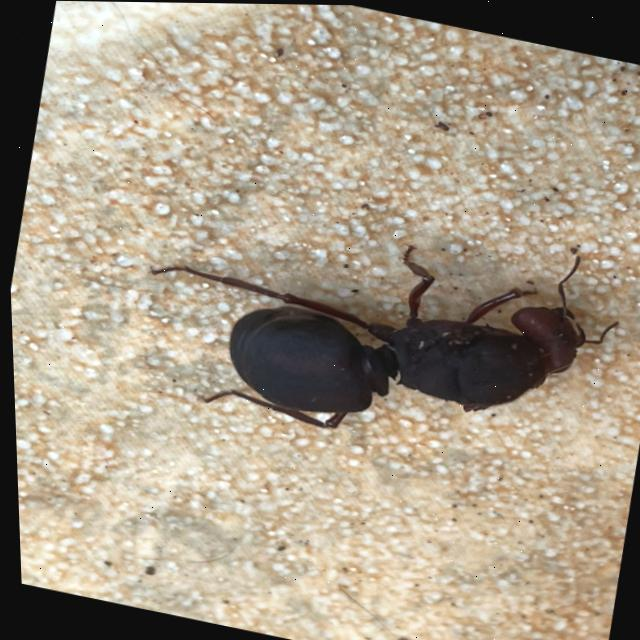Alive-Female-Dealate: (123, 170, 632, 484)
